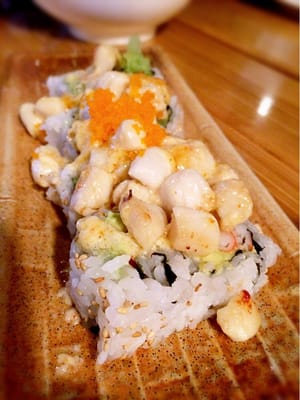sushi: (30, 0, 194, 44)
